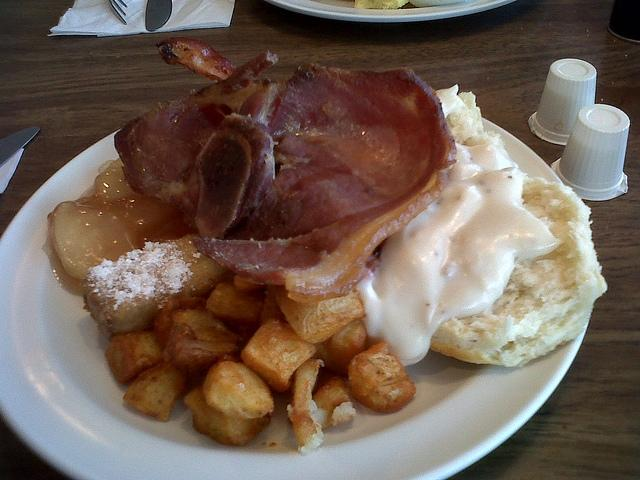potato: (182, 382, 273, 446), (165, 308, 248, 377), (240, 318, 316, 392), (274, 286, 366, 344), (348, 341, 416, 414), (200, 360, 274, 419), (122, 359, 188, 422), (286, 357, 328, 453), (312, 318, 368, 378), (104, 330, 165, 384), (207, 272, 267, 324), (154, 296, 207, 348), (312, 376, 358, 430), (258, 291, 288, 326), (233, 275, 268, 293)
